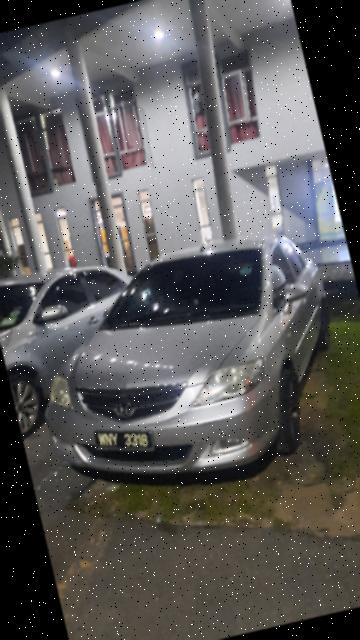License_Plate: (89, 414, 159, 468)
car: (11, 217, 360, 514), (1, 240, 174, 435)
